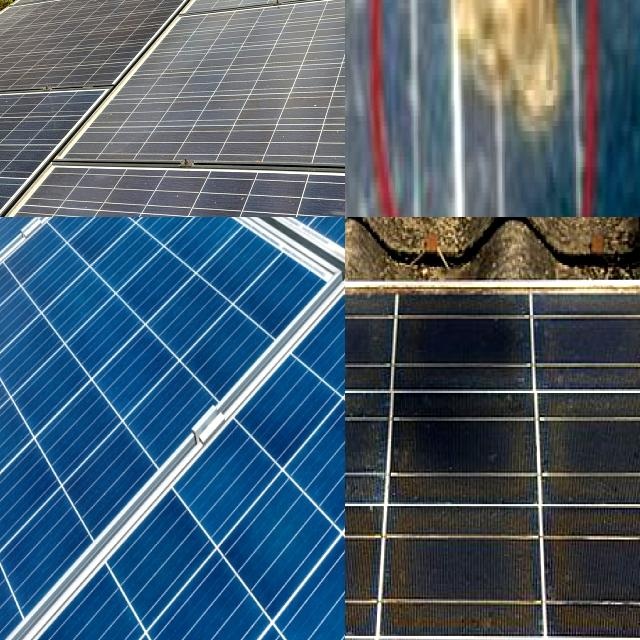crack: (0, 217, 345, 640)
dust: (190, 9, 274, 147), (305, 0, 345, 143), (0, 80, 40, 164)
shadow: (447, 0, 574, 172), (396, 512, 534, 628), (396, 394, 532, 498), (396, 282, 529, 386), (543, 388, 640, 508), (546, 520, 640, 640), (535, 296, 640, 383), (345, 512, 417, 634), (345, 389, 412, 503), (345, 291, 411, 381), (345, 510, 395, 628), (345, 294, 412, 381), (345, 400, 403, 491)
